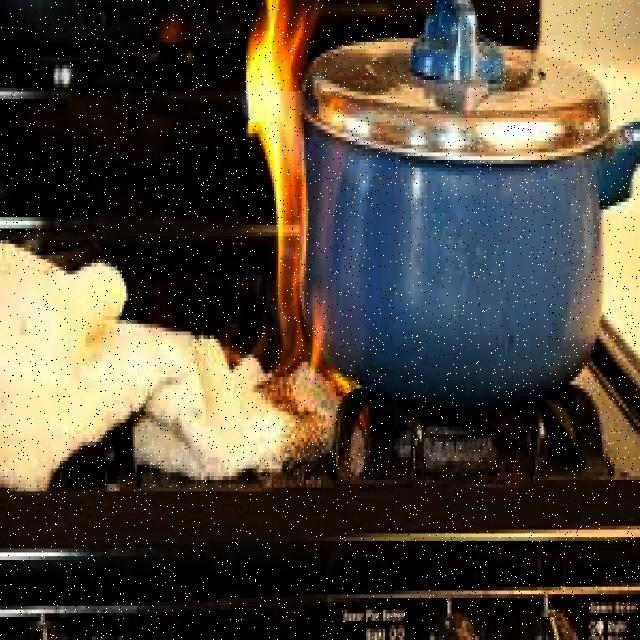fire: (237, 5, 331, 411)
